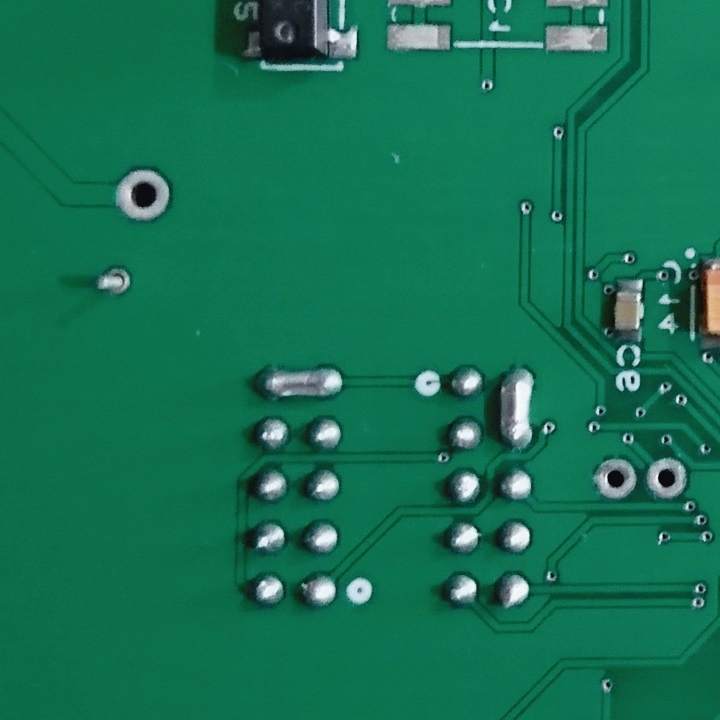F: (114, 165, 175, 226), (644, 454, 690, 503), (592, 455, 639, 502), (93, 260, 135, 299)
P: (250, 362, 350, 405), (495, 361, 541, 454)
